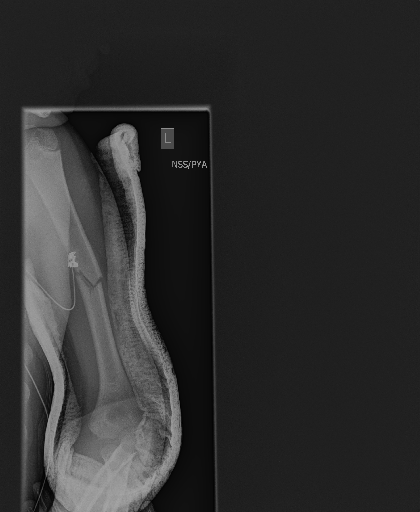fracture: (62, 254, 116, 304)
